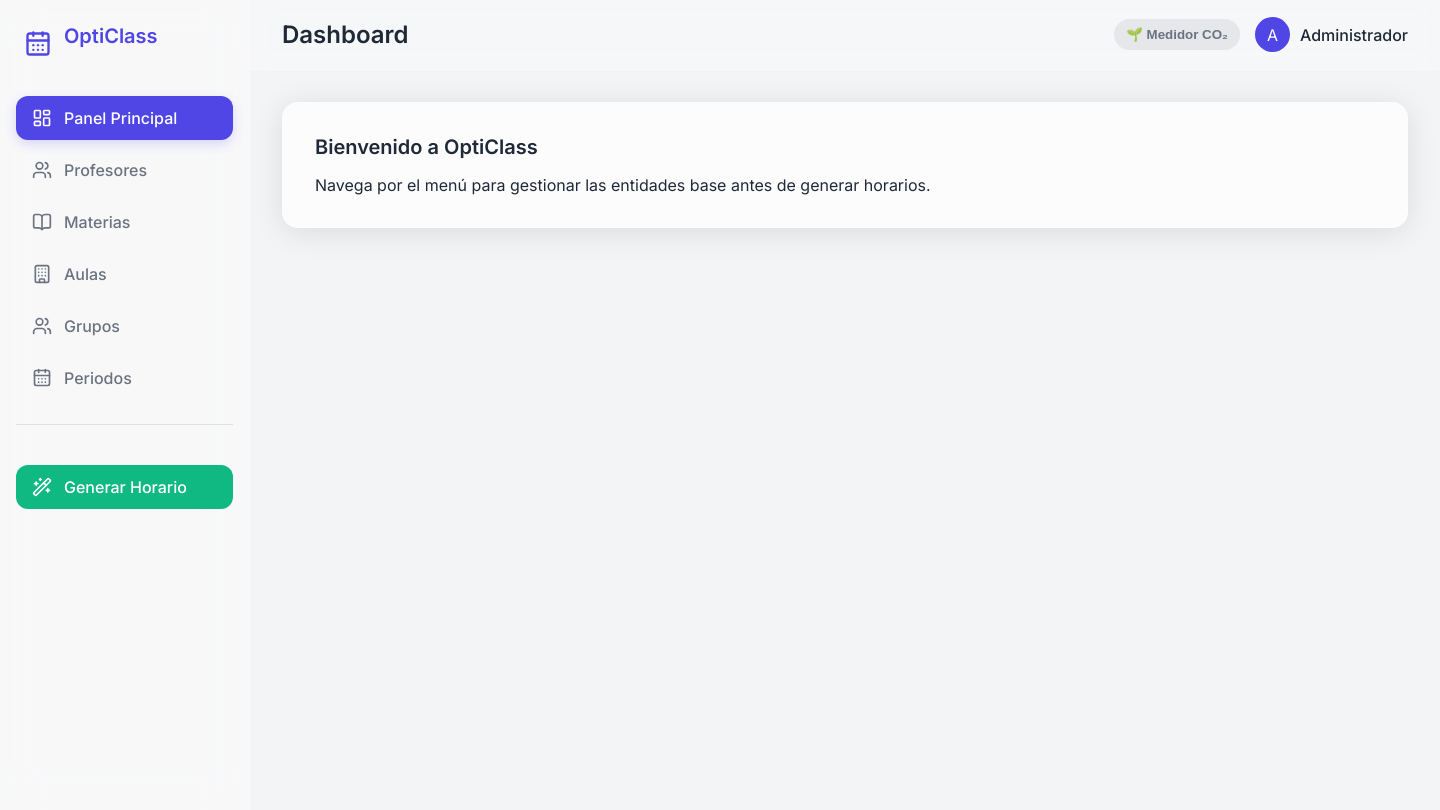
App › navega a Profesores al hacer click en el sidebar
The image size is (1440, 810).
Click the list item "Profesores": x=90, y=170 x1=32 y1=160 x2=147 y2=180
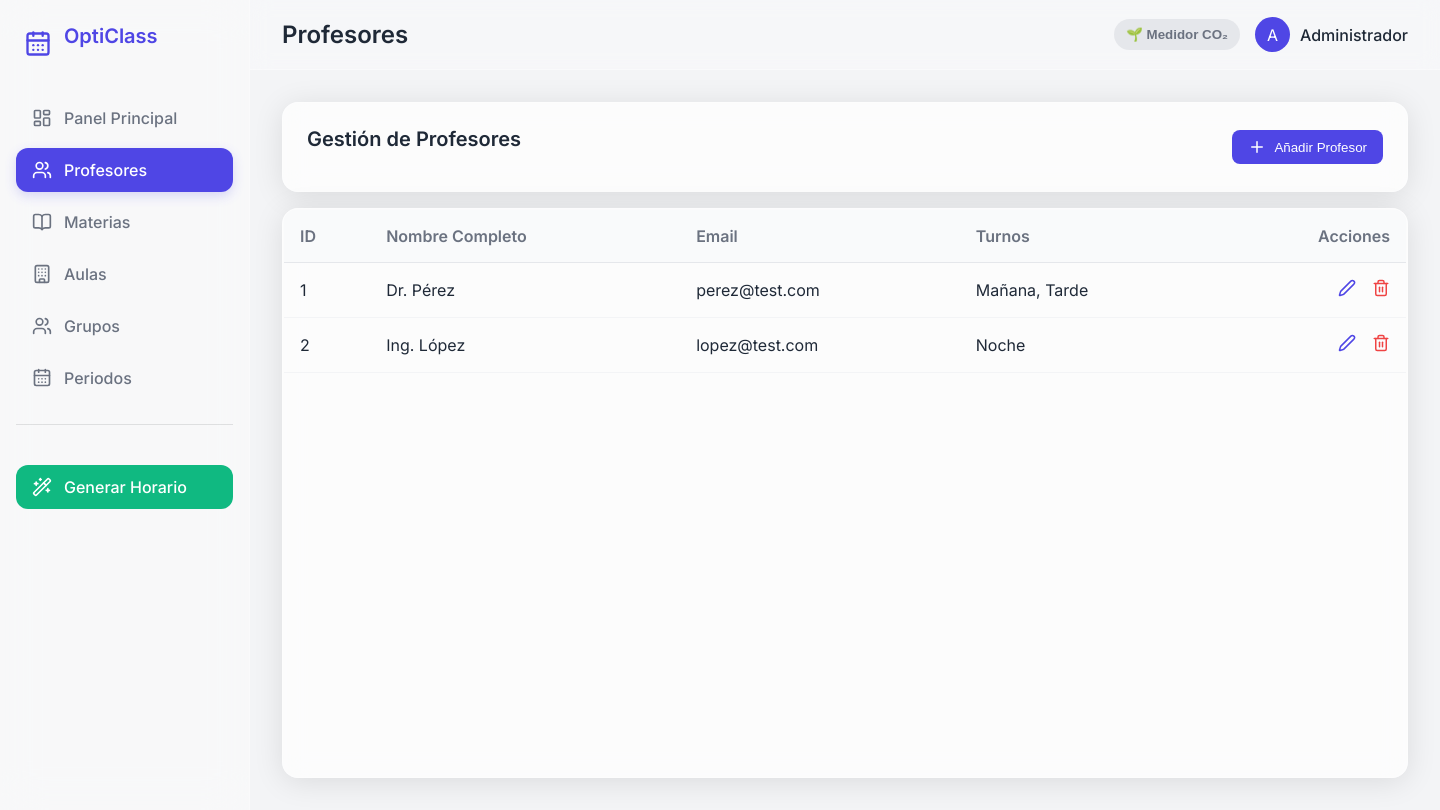
Result: the heading "Gestión de Profesores" is shown at x1=307 y1=127 x2=521 y2=151
